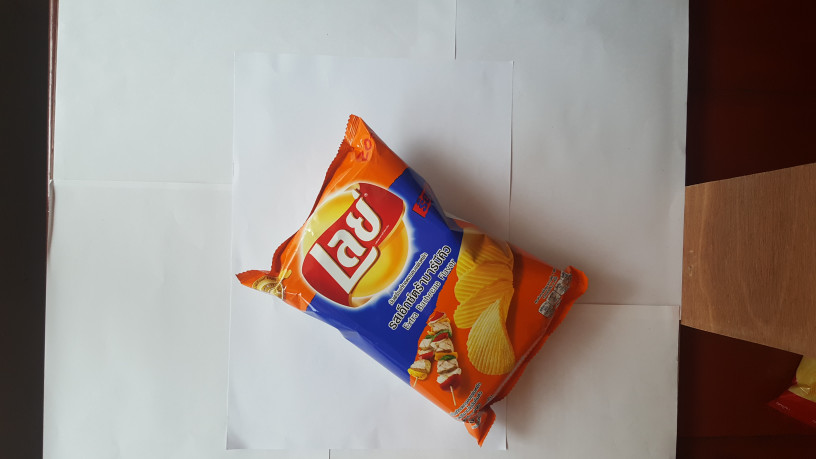lays-bbq: (229, 106, 594, 448)
